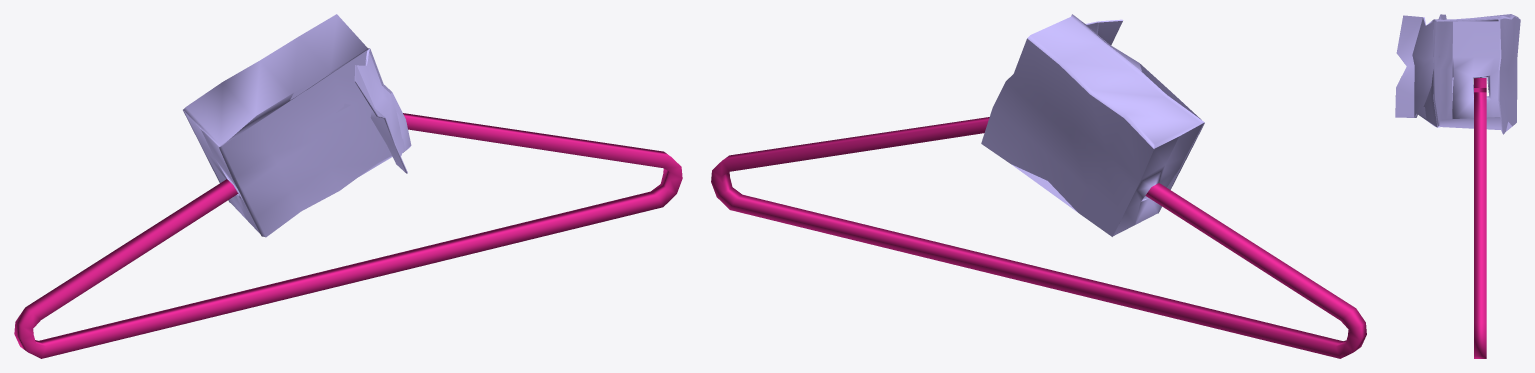
Rendered from Absurd.fbx.
The picture shows the model from 3 angles, left to right: view 1: azimuth 30°, elevation 25°; view 2: azimuth 150°, elevation 25°; view 3: azimuth 270°, elevation 25°; orthographic projection. The views are drawn at different scales.
Visible parts, largest first — view 1: AbsurdCon; view 2: AbsurdCon; view 3: AbsurdCon.
Boxes of the visible parts, bbox=[...] form: AbsurdCon: bbox=[14, 14, 682, 358]; AbsurdCon: bbox=[711, 14, 1366, 358]; AbsurdCon: bbox=[1395, 14, 1520, 358].
Size of the model in its own units: 446 by 167 by 88.33.
